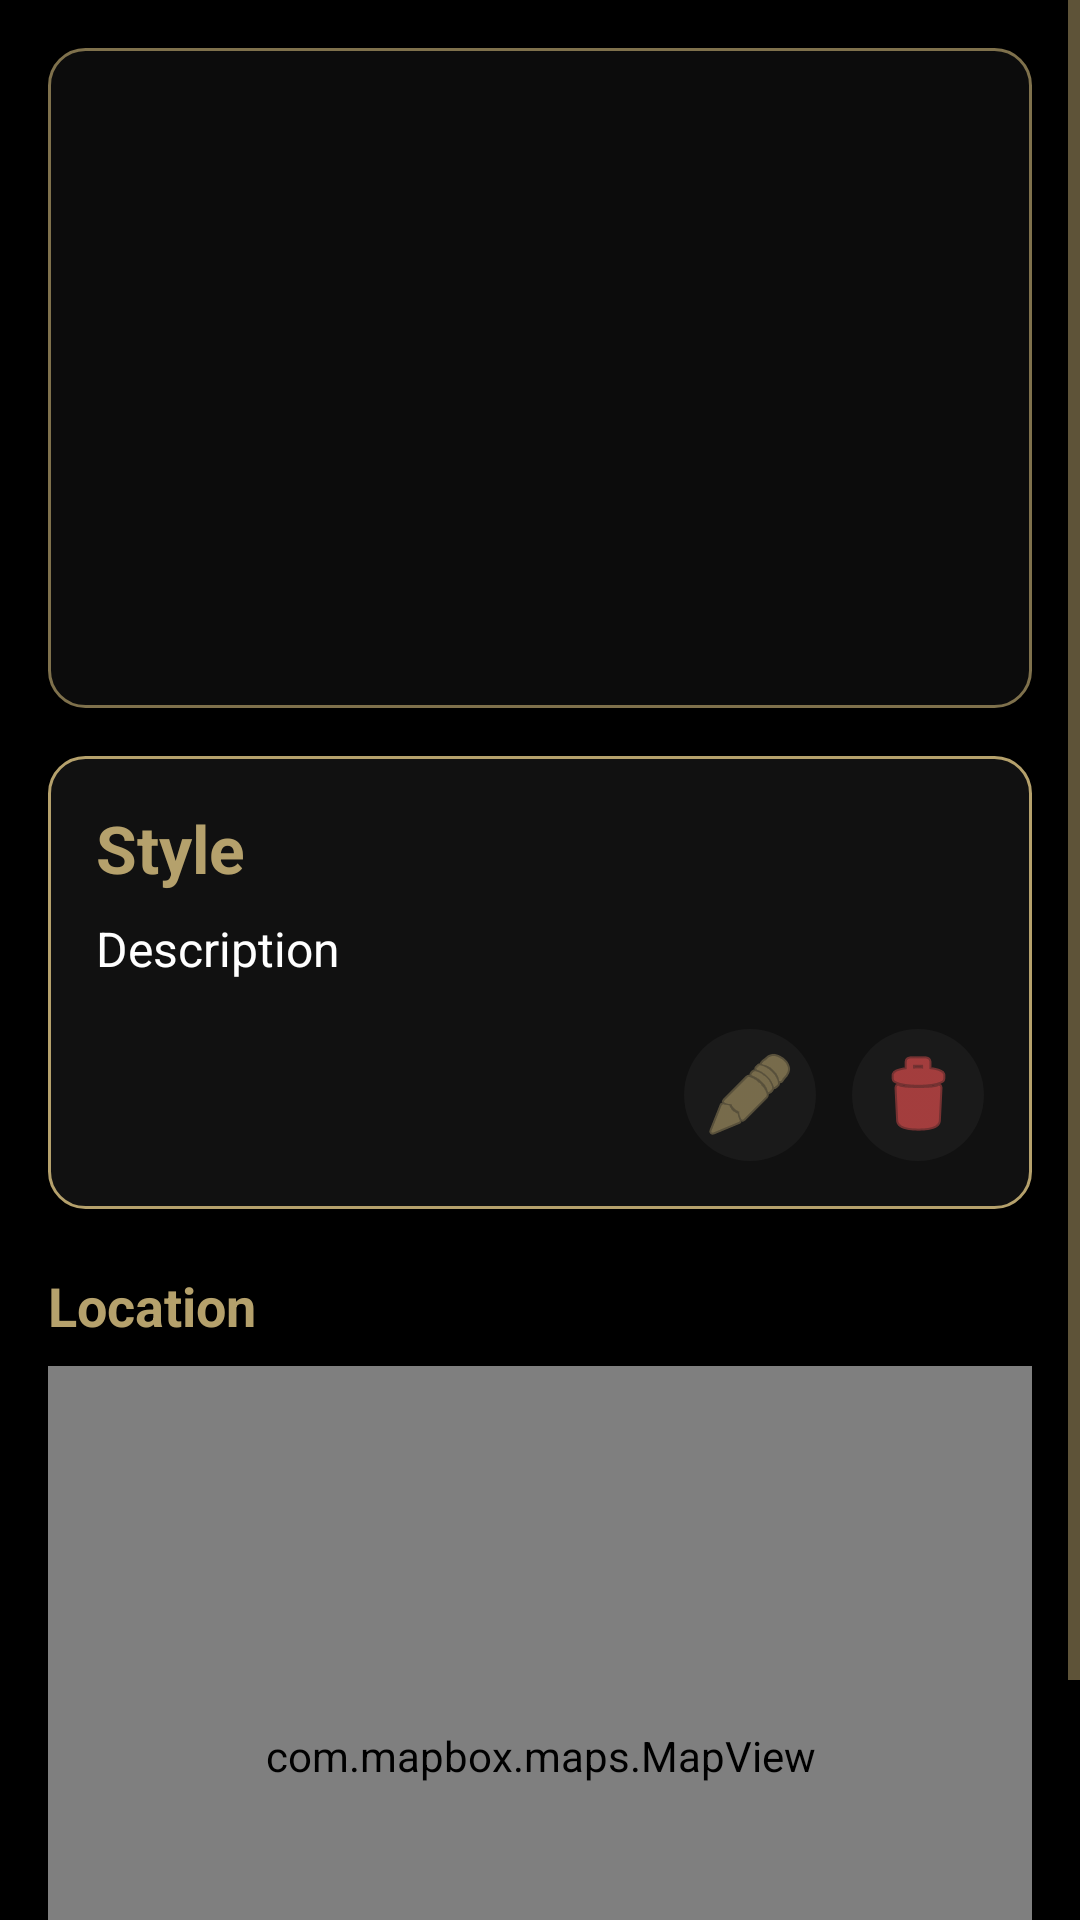

Icons on this 1080 × 1920 Android screen, each with its box as [x1=x1, y1=y1, x2=x2, y2=y2]:
Delete: [x1=891, y1=1056, x2=946, y2=1131]
Edit: [x1=685, y1=1029, x2=815, y2=1161]
